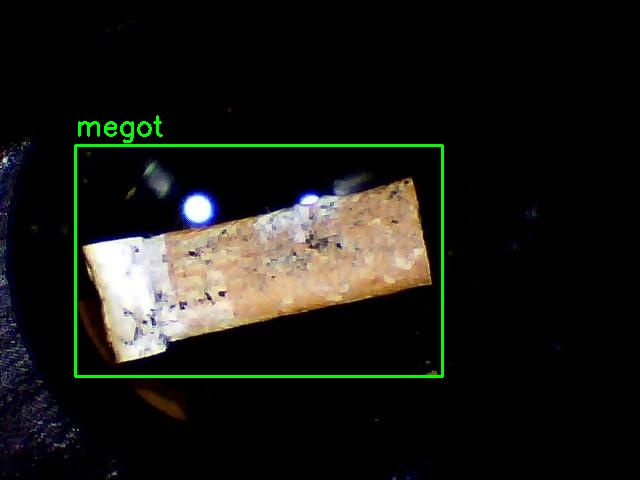megot: (75, 145, 442, 376)
